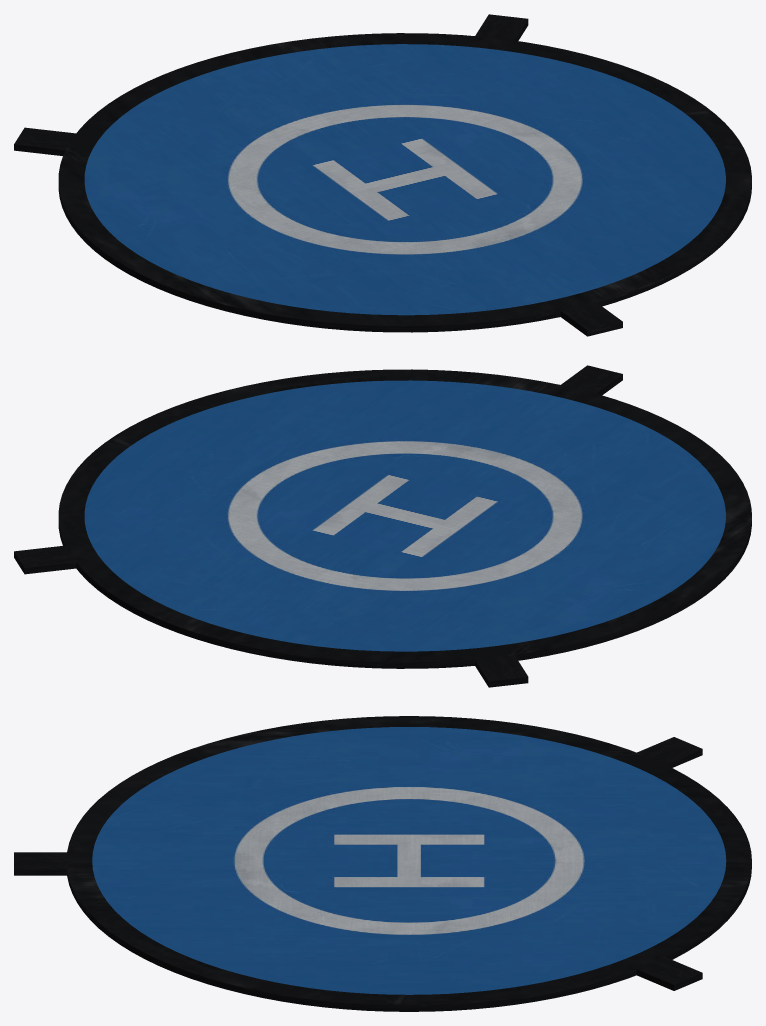
File: e_color_DronePad_blue.fbx
3 views of the same model, one above another, from view 1: azimuth 30°, elevation 25°; view 2: azimuth 150°, elevation 25°; view 3: azimuth 270°, elevation 25° (orthographic).
Visible parts, largest first — view 1: DronePad_blue; view 2: DronePad_blue; view 3: DronePad_blue.
Part boxes in pixels (box(x1,y1,x2,y2)): DronePad_blue: box(14, 14, 751, 336); DronePad_blue: box(14, 365, 751, 687); DronePad_blue: box(14, 716, 751, 1011).
Bounding box in the file's own units: 200 × 2 × 215.
